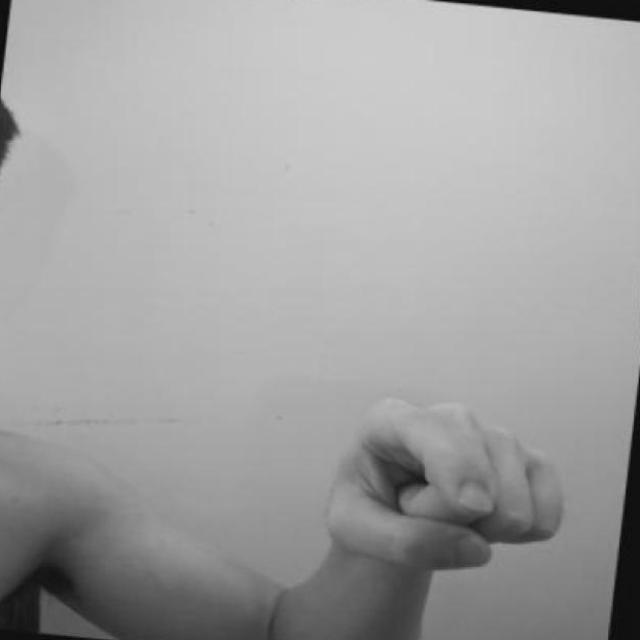Z: (313, 377, 575, 586)
